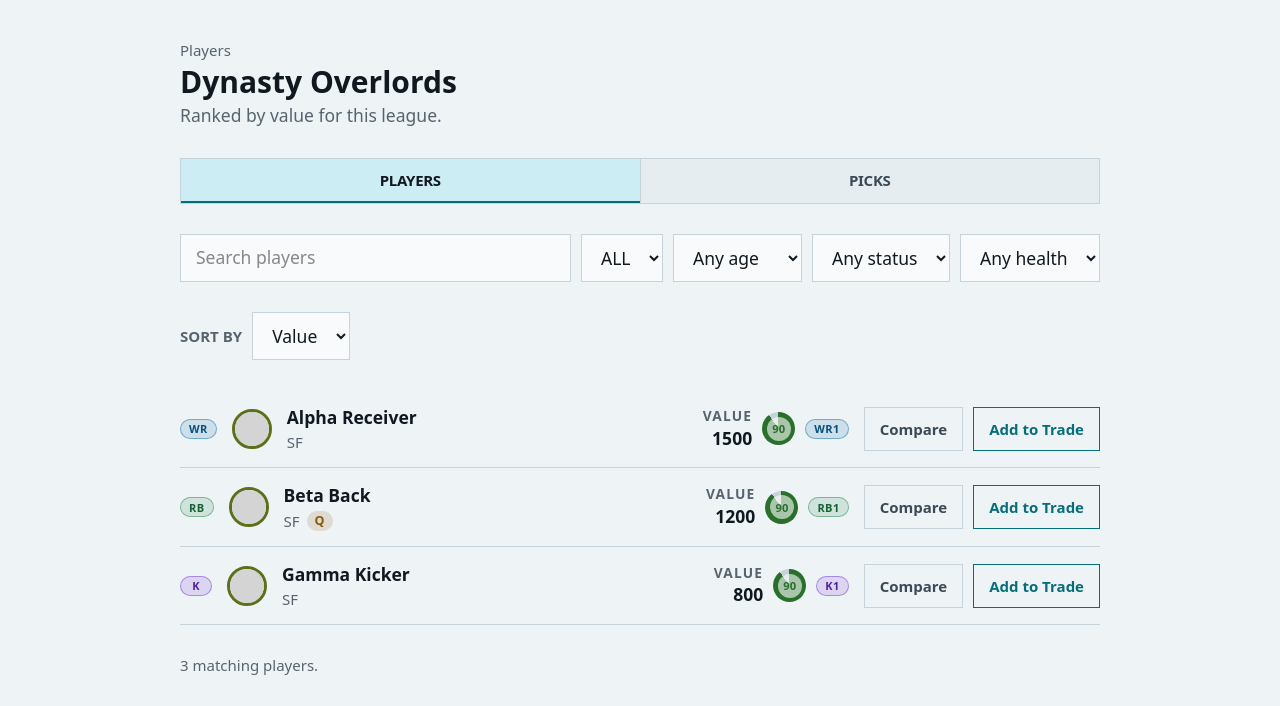
Test case: PlayersContent › Picks view › switches to Picks and shows every pick, grouped by season with owner context
What coordinates should you click on to do the following:
click the tab "Picks"
I would click on:
 (869, 181)
Its box is [640,159,1099,203].
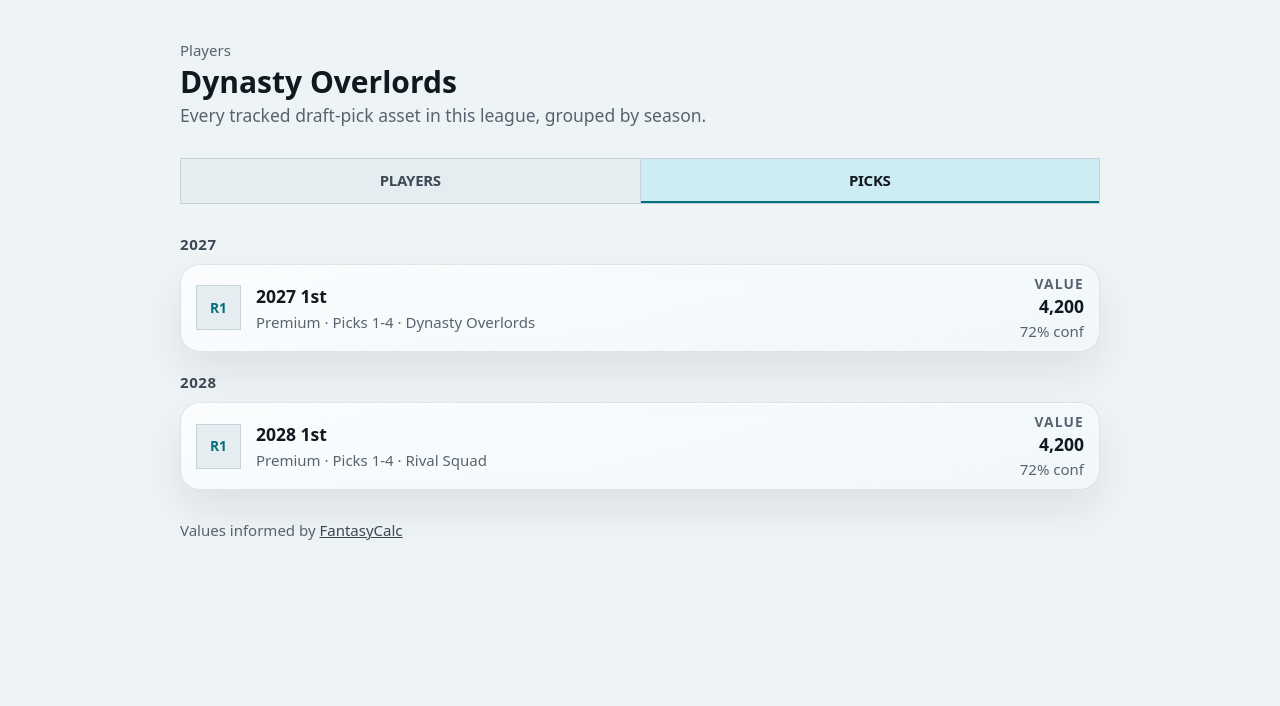
Check: the button "Alpha Receiver" is gone
Check: the text "2027 1st" is shown, box [256,284,327,308]
Check: the text "2028 1st" is shown, box [256,422,327,446]
